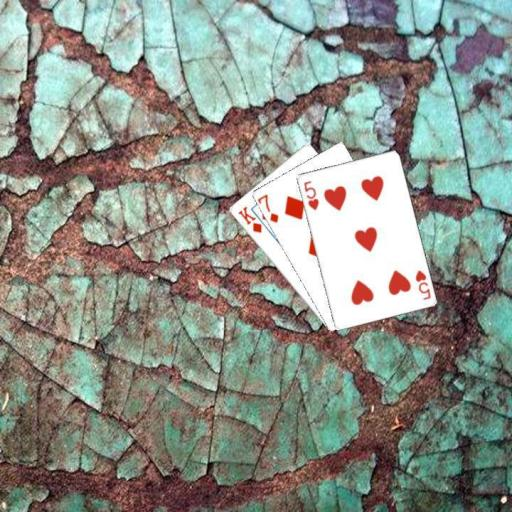card-corner: (235, 203, 263, 235), (255, 190, 280, 224), (412, 266, 432, 302), (300, 177, 320, 211)
